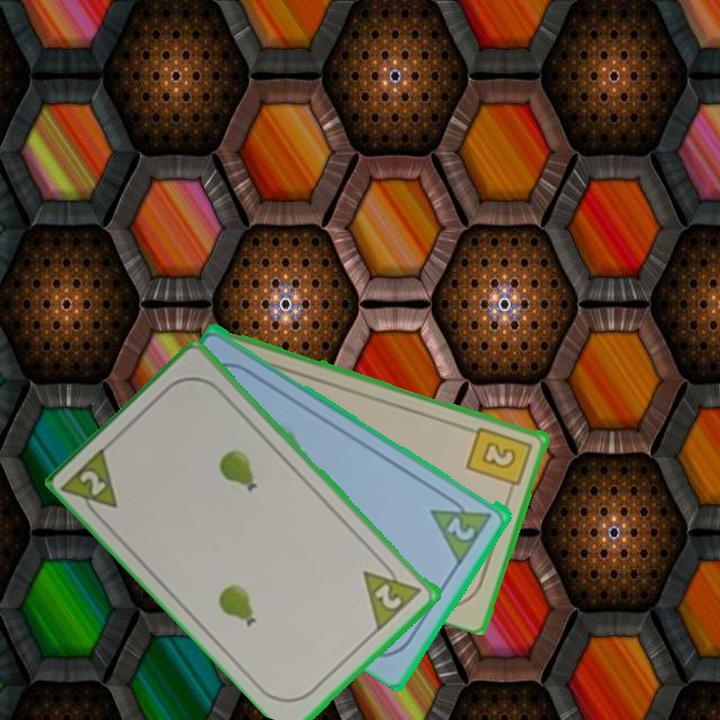2b: (464, 423, 536, 497)
2p: (59, 442, 122, 526), (360, 554, 425, 632), (443, 513, 479, 544)
